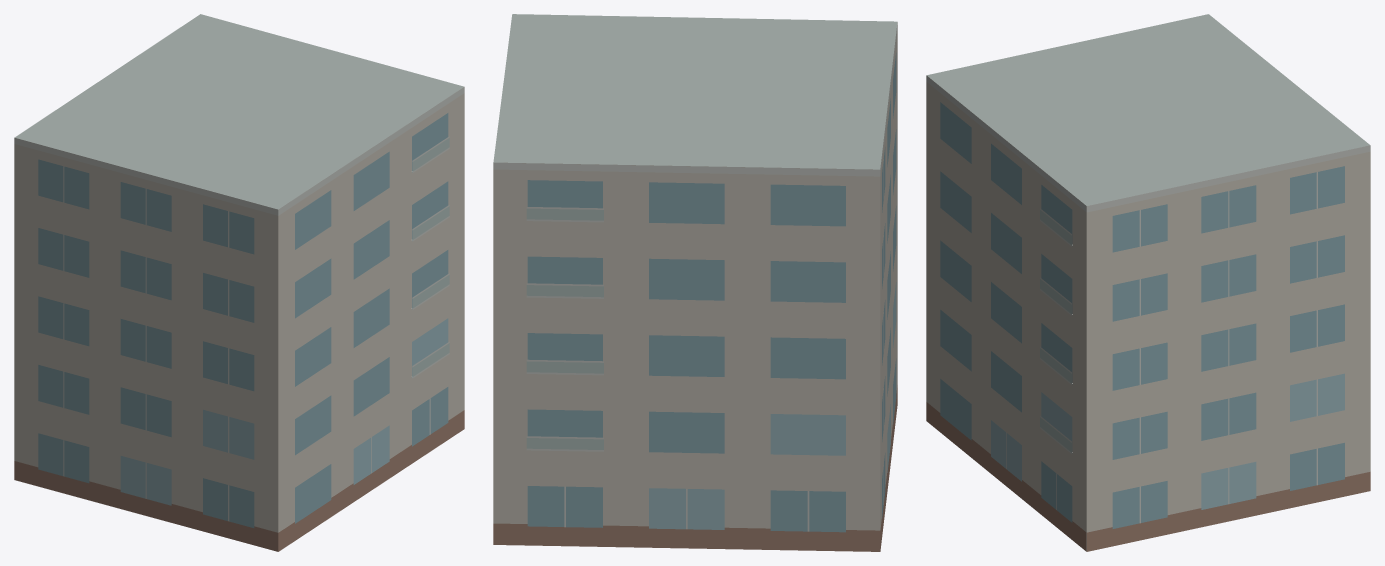
File: survey-upis-32828454.glb
The picture shows the model from 3 angles, left to right: view 1: azimuth 30°, elevation 25°; view 2: azimuth 150°, elevation 25°; view 3: azimuth 270°, elevation 25°; orthographic projection. The views are drawn at different scales.
Visible parts, largest first — view 1: survey-upis-32828454.tmp; view 2: survey-upis-32828454.tmp; view 3: survey-upis-32828454.tmp.
Boxes of the visible parts, <box> form: survey-upis-32828454.tmp: <box>14,14,464,551</box>; survey-upis-32828454.tmp: <box>493,14,897,551</box>; survey-upis-32828454.tmp: <box>926,14,1370,551</box>.
Bounding box in the file's own units: 15.86 × 13.3 × 15.49.
